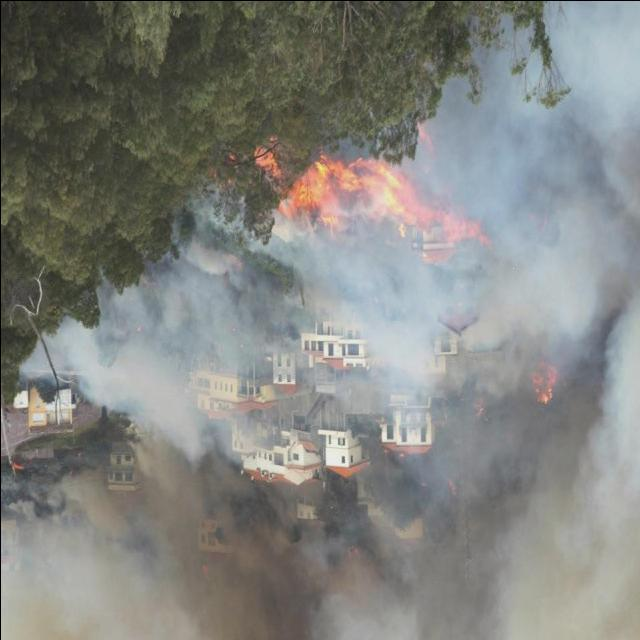Fire: (246, 134, 484, 251), (531, 365, 557, 405)
